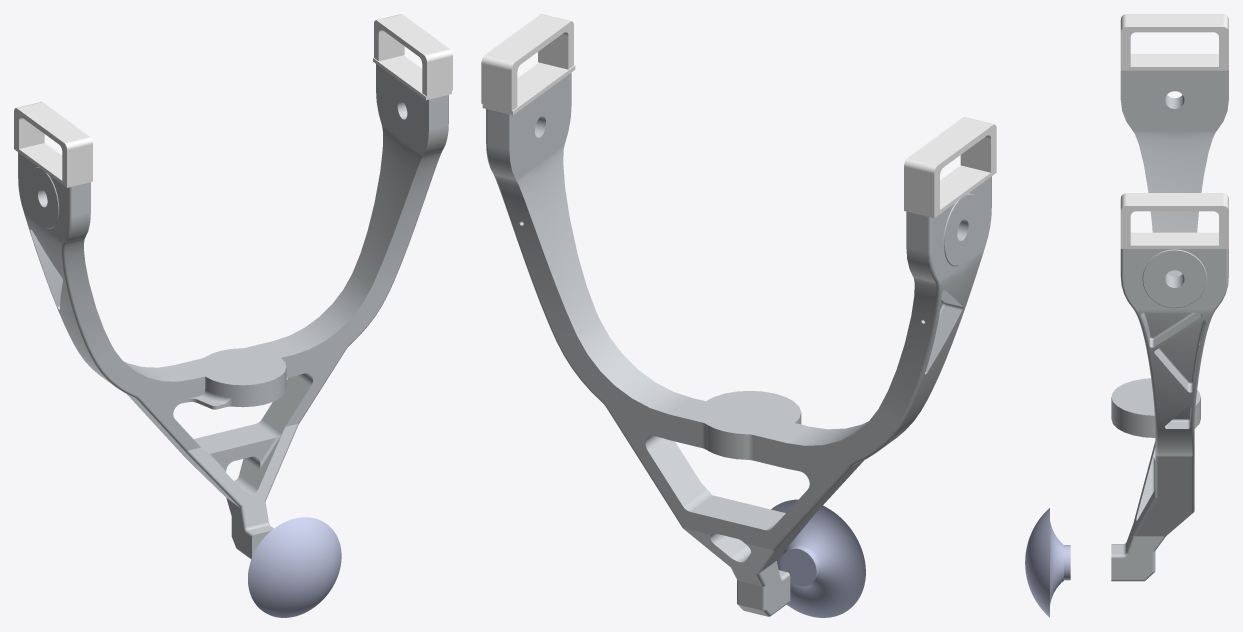
The model's file is base_wheels.dae.
3 views of the same model, side by side, from view 1: azimuth 30°, elevation 25°; view 2: azimuth 150°, elevation 25°; view 3: azimuth 270°, elevation 25° (orthographic). The views are drawn at different scales.
Parts seen in each view (by area): view 1: _3DGeom_229, _3DGeom_230, Body_1; view 2: _3DGeom_229, _3DGeom_230, Body_1; view 3: _3DGeom_229, _3DGeom_230, Body_1.
Boxes of the visible parts, <box> form: _3DGeom_229: <box>18,64,448,559</box>; _3DGeom_230: <box>14,14,452,187</box>; Body_1: <box>248,517,341,617</box>; _3DGeom_229: <box>486,73,991,616</box>; _3DGeom_230: <box>481,14,996,218</box>; Body_1: <box>771,499,865,617</box>; _3DGeom_229: <box>1111,70,1228,581</box>; _3DGeom_230: <box>1120,14,1228,248</box>; Body_1: <box>1025,508,1070,617</box>.
Bounding box in the file's own units: 0.4622 × 0.2074 × 0.5646.
